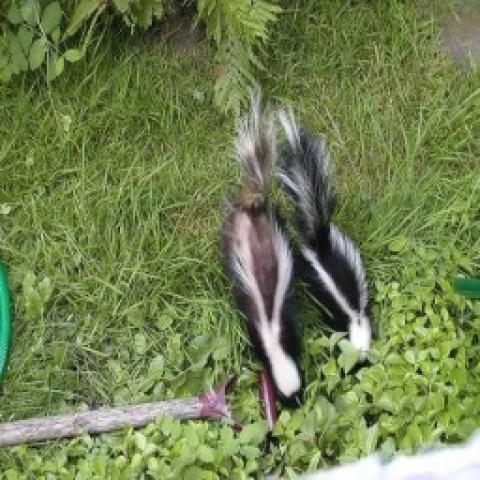small_animal: (218, 88, 307, 410), (274, 104, 372, 371)
